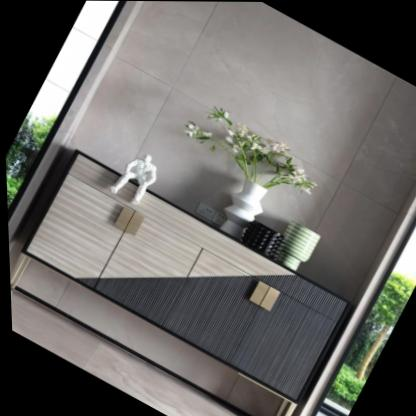Sideboard: (8, 153, 345, 416)
